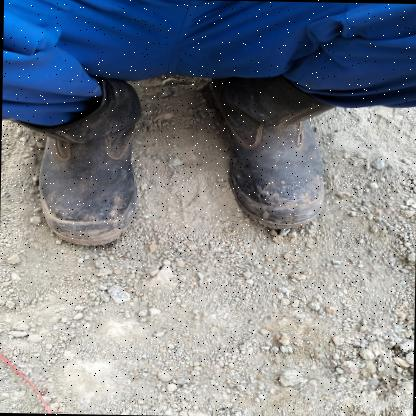bota: (16, 74, 146, 248), (196, 75, 335, 228)
